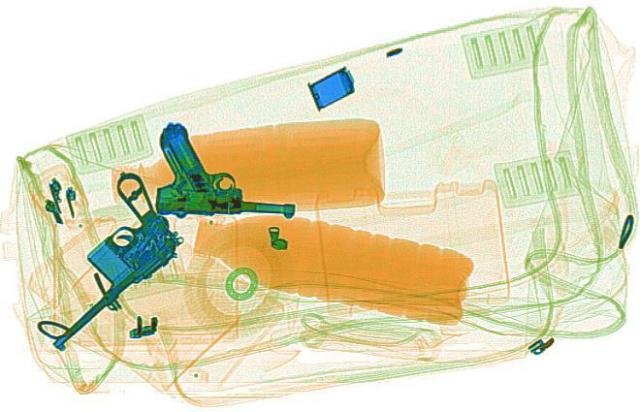Gun: (0, 190, 218, 327), (152, 120, 300, 214)
